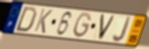6: (56, 10, 73, 37)
D: (13, 6, 38, 34)
G: (72, 12, 92, 39)
J: (111, 15, 133, 44)
K: (33, 8, 54, 35)
V: (97, 13, 117, 42)
